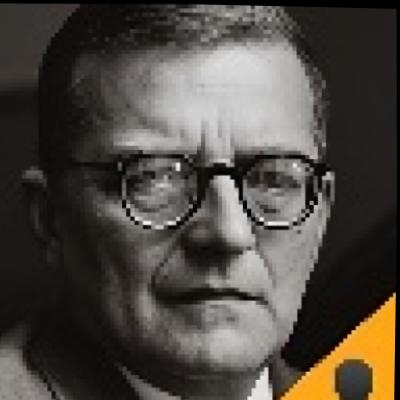angry: (47, 23, 329, 363)
